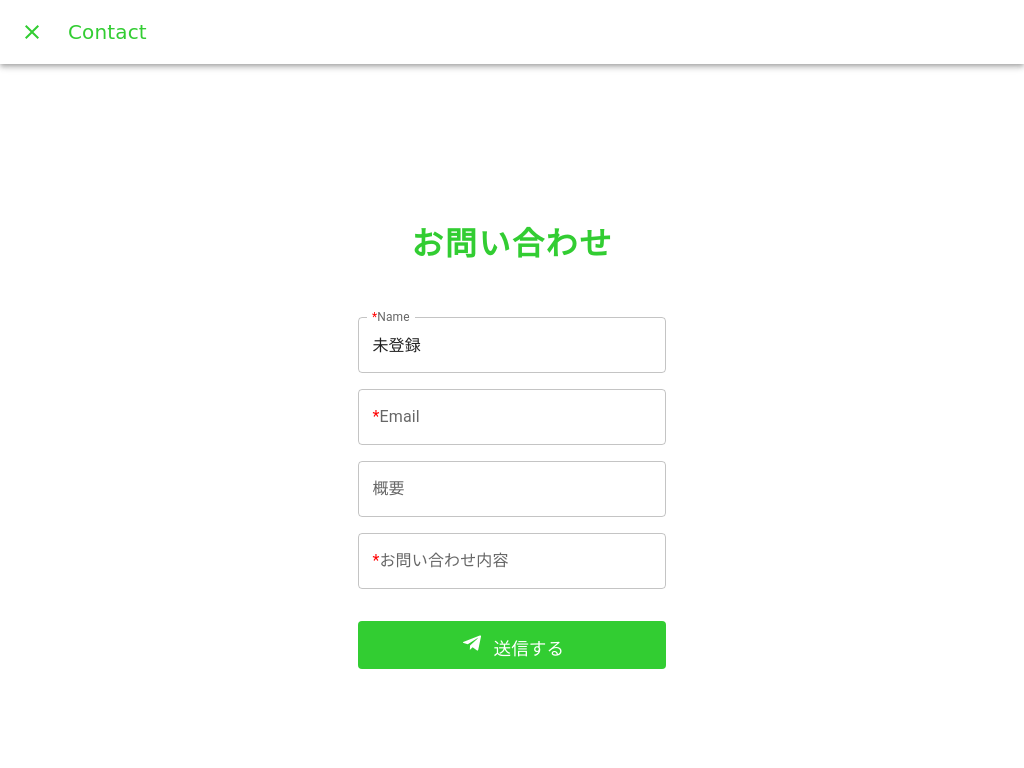
Contact › 共通 › Apiエラーメッセージ
Note: 各項目に値を入力
Type "testName" into the field with test id "nameArea". click: (512, 345)
box: [358,317,666,373]
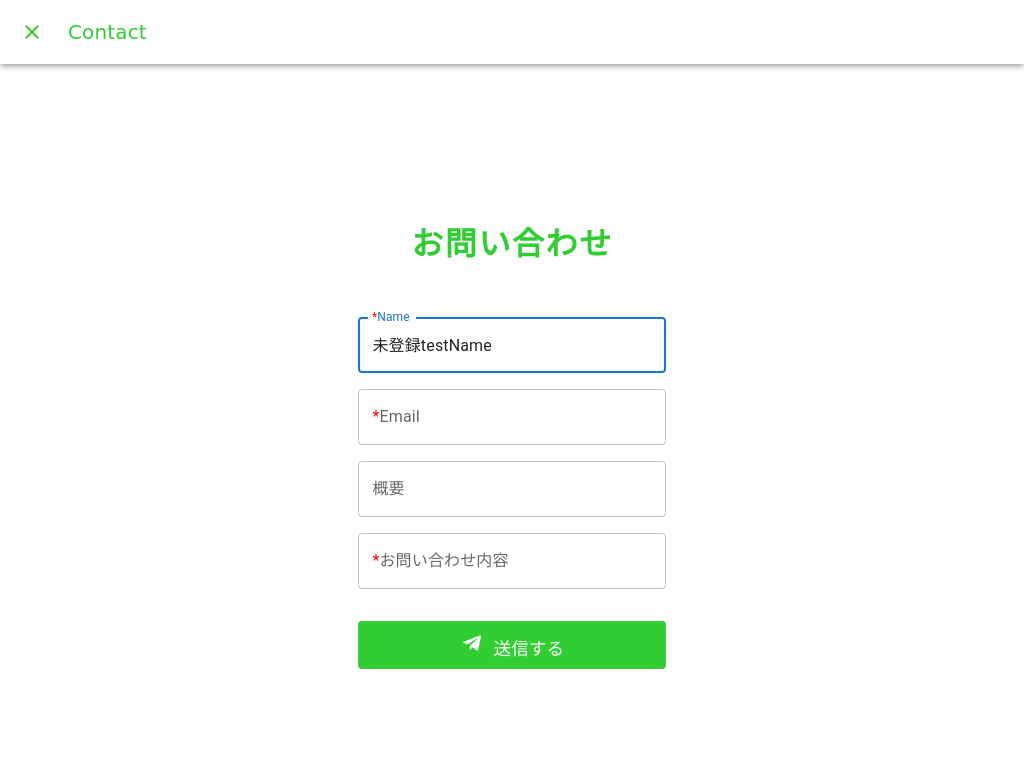
Type "test@example.com" into the field with test id "emailArea". click: (512, 417)
box: [358,389,666,445]
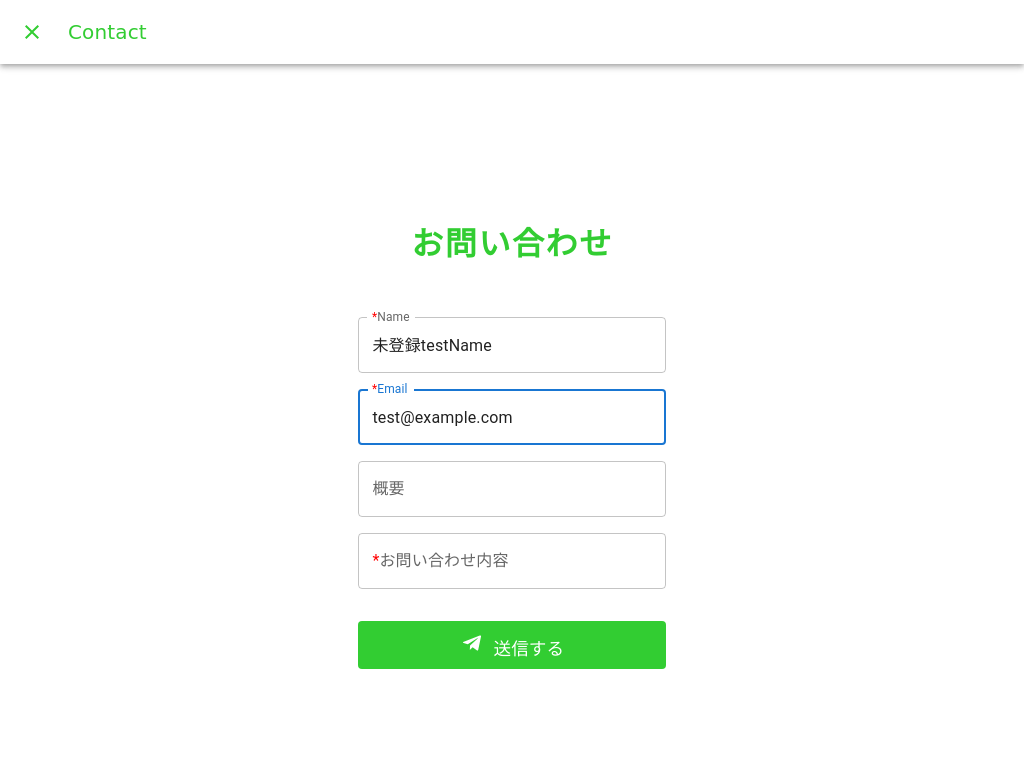
Type "testOverView" into the text box with test id "overViewArea". click: (512, 489)
box: [372,478,652,500]
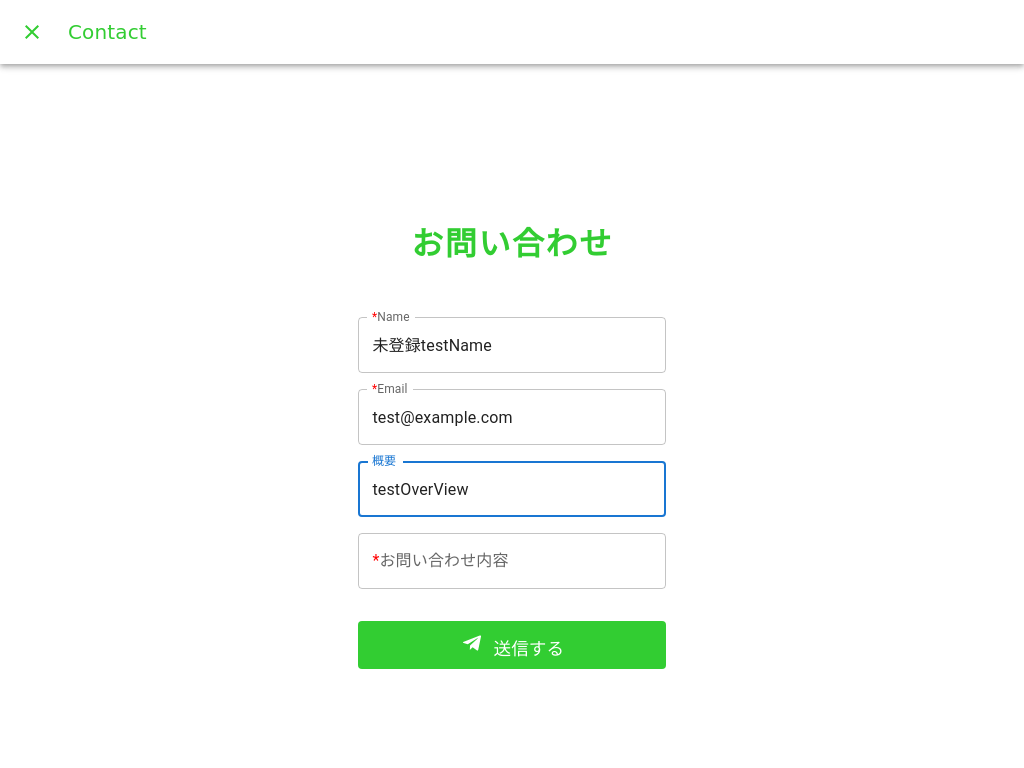
Type "testContent" into the text box with test id "contentArea". click: (512, 561)
box: [372,550,652,572]
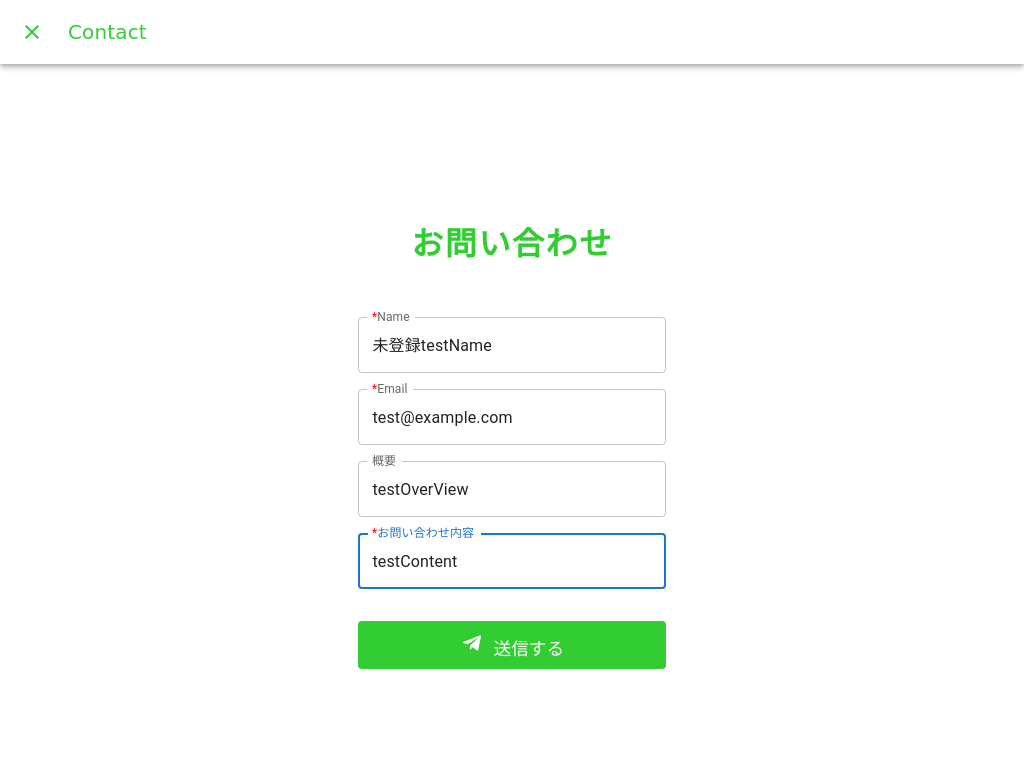
Note: ユーザが送信ボタンをクリック
Click the button with test id "formSubmit". click: (512, 645)
box: [358,621,666,669]
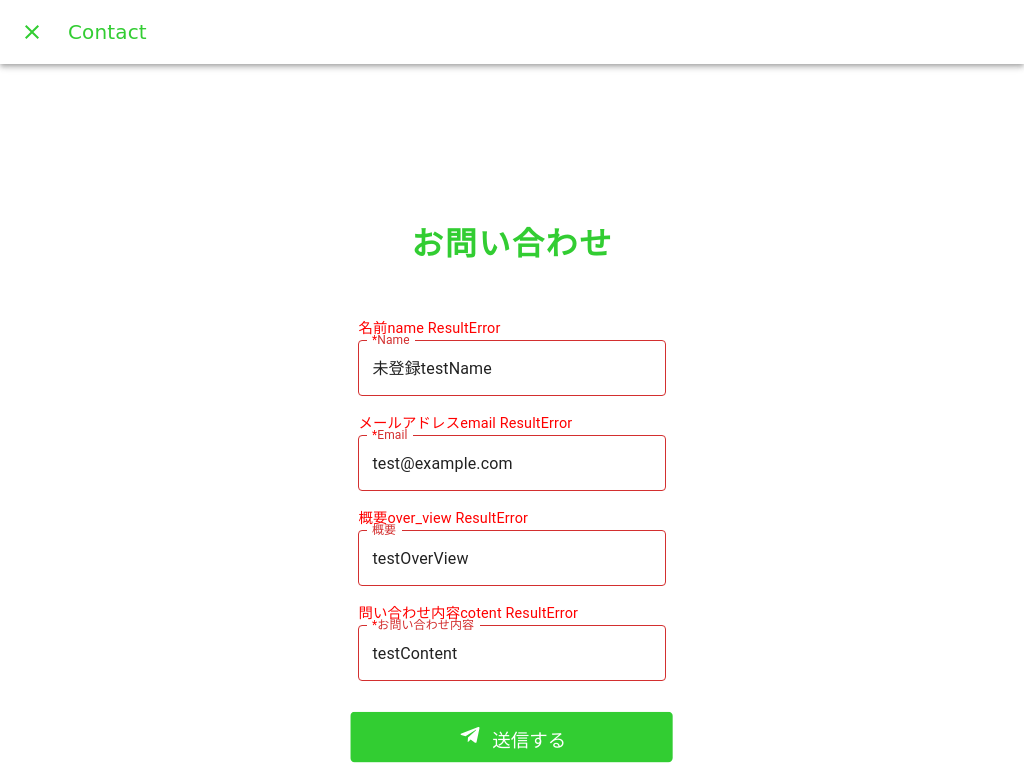
Now the text with test id "nameResultError" is shown, box [358,320,500,337]
Now the text with test id "emailResultError" is shown, box [358,415,572,432]
Now the text with test id "overViewResultError" is shown, box [358,510,528,527]
